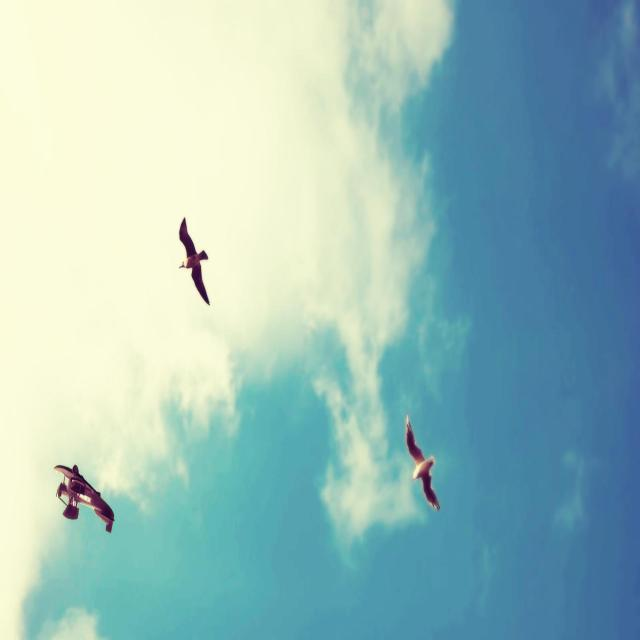airplane: (53, 464, 115, 533)
